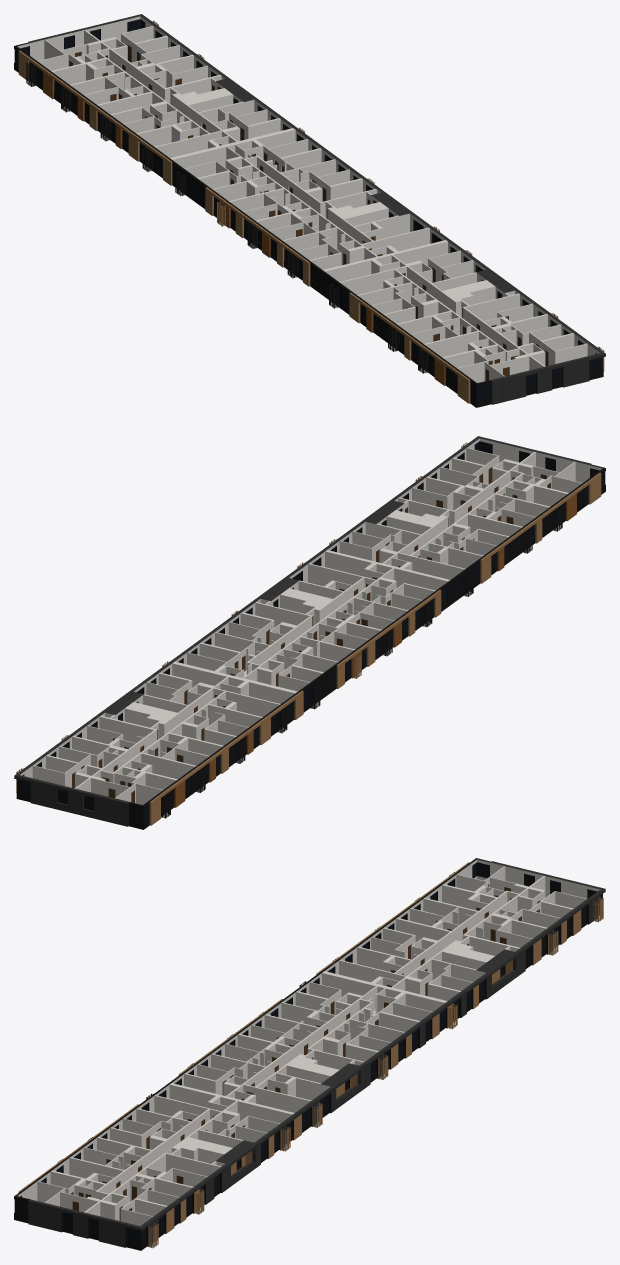
File: floor_25.FBX
3 renders of one model, top to bottom at view 1: azimuth 30°, elevation 25°; view 2: azimuth 150°, elevation 25°; view 3: azimuth 330°, elevation 25°, orthographic.
Visible parts, largest first — view 1: floor_25; view 2: floor_25; view 3: floor_25.
Boxes of the visible parts, x1,y1,x2,y2 form: floor_25: [14, 14, 605, 407]; floor_25: [14, 436, 605, 829]; floor_25: [14, 858, 605, 1250].
Bounding box in the file's own units: 18.55 × 3 × 108.
